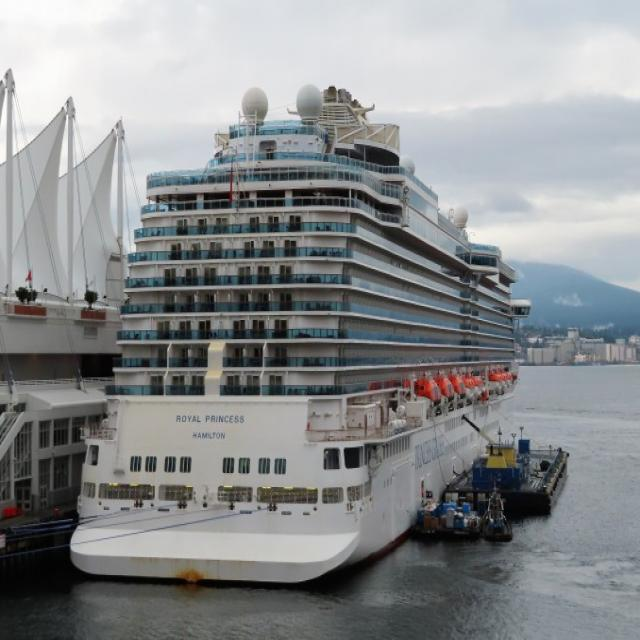cruises: (64, 82, 532, 601)
